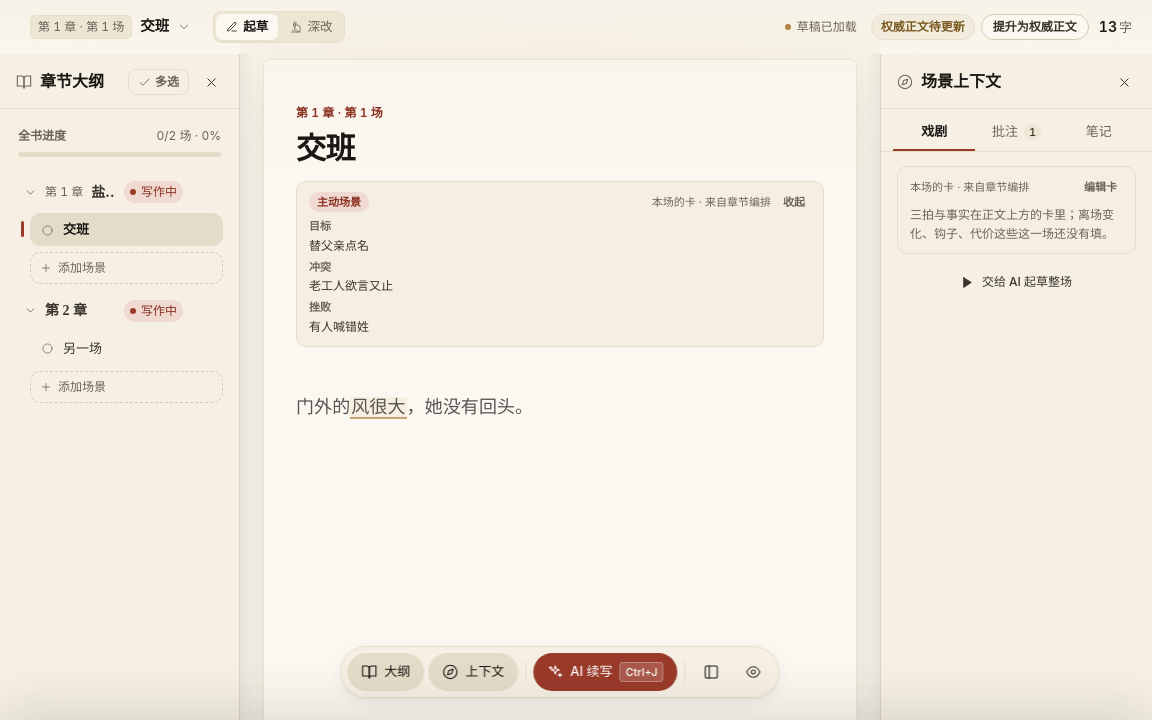
写作台 · 批注存在本机浏览器 › 删掉被批注的那几个字：自动保存后批注页签把那一条改成「找不到原文」，不留一个点了没反应的「定位」
This screenshot has width=1152, height=720.
Expected: the text box with class "wr-anno" is shown, [350, 397, 407, 419]
Step 1. Click the tab "批注 1" → (1016, 132), box [975, 113, 1058, 150]
(page scrolled)
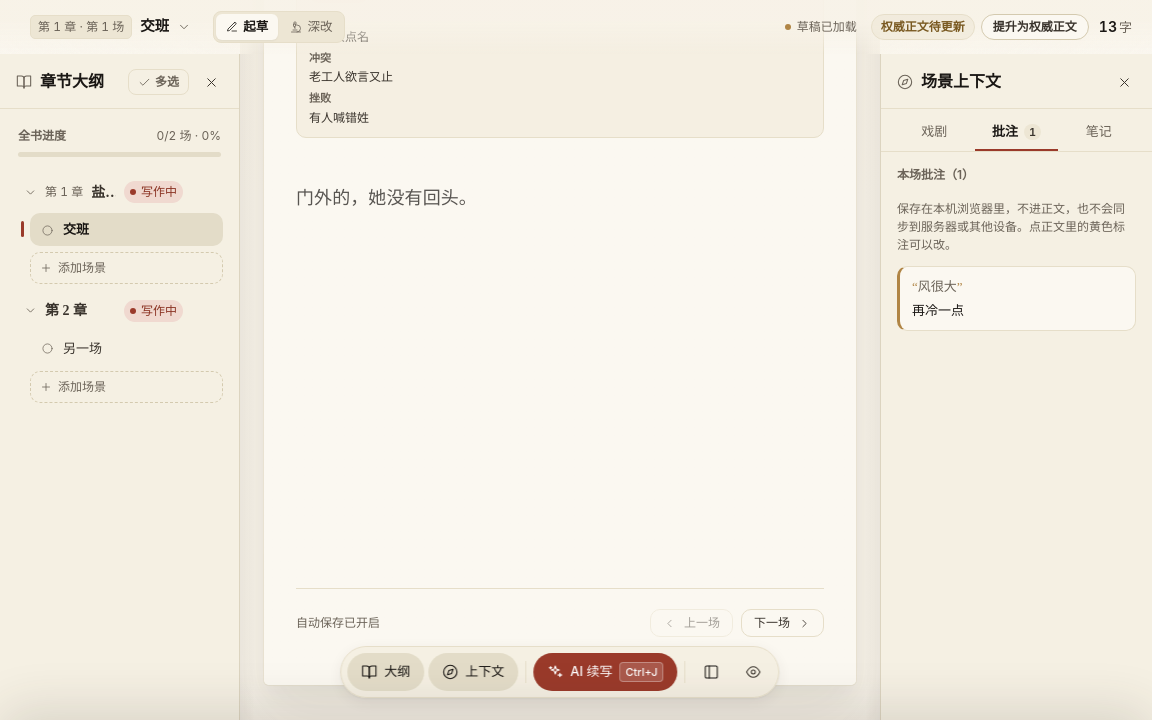
Expected: the button with class "wr-anno-item" is shown, [897, 266, 1136, 331]
Step 2. Clear the field with class "wr-editor" → (386, 198), box [296, 188, 477, 208]
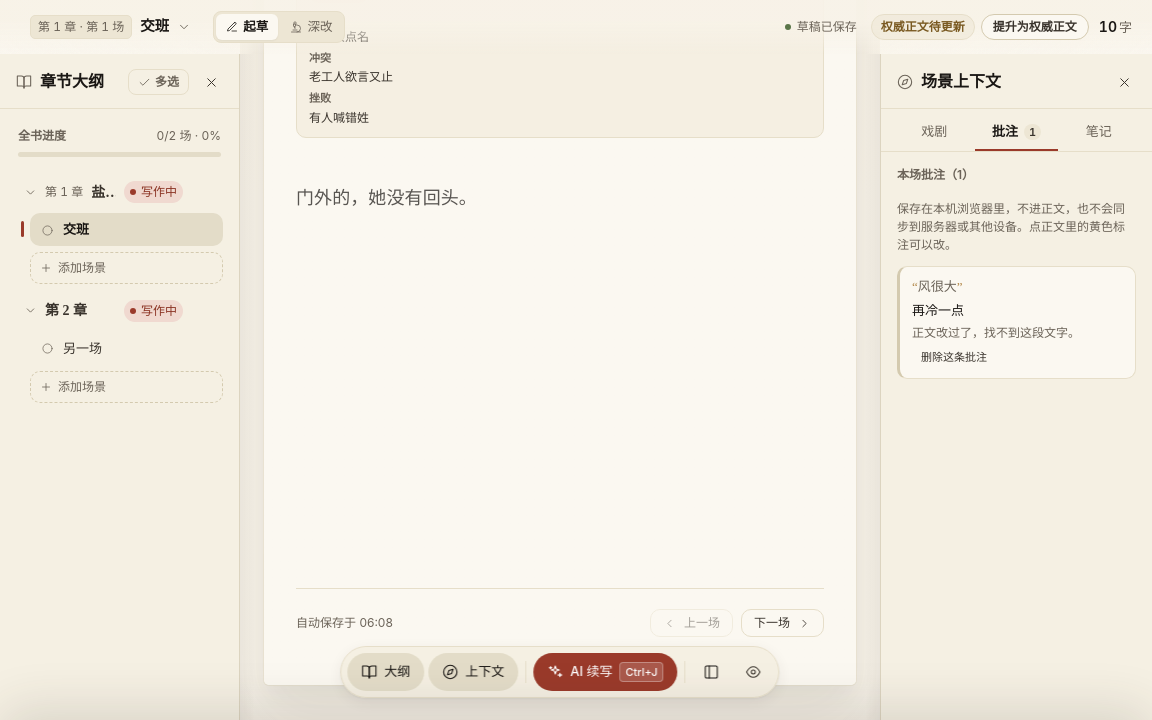
Expected: the element with class "is-lost" is shown, [897, 266, 1136, 379]
Expected: the element with class "is-lost" shows "找不到这段文字", [912, 325, 1080, 340]
